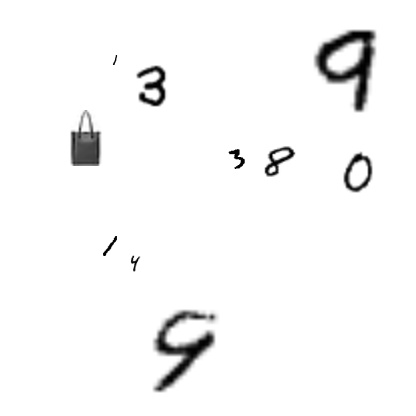0: (328, 144, 384, 200)
1: (96, 232, 124, 260), (108, 53, 122, 67)
3: (125, 58, 181, 114), (223, 143, 251, 171)
4: (123, 251, 145, 273)
8: (256, 139, 298, 181)
9: (291, 3, 403, 115), (126, 291, 238, 403)
Bag: (57, 110, 113, 166)
